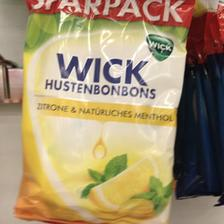Suessigkeit: (22, 1, 184, 223)
